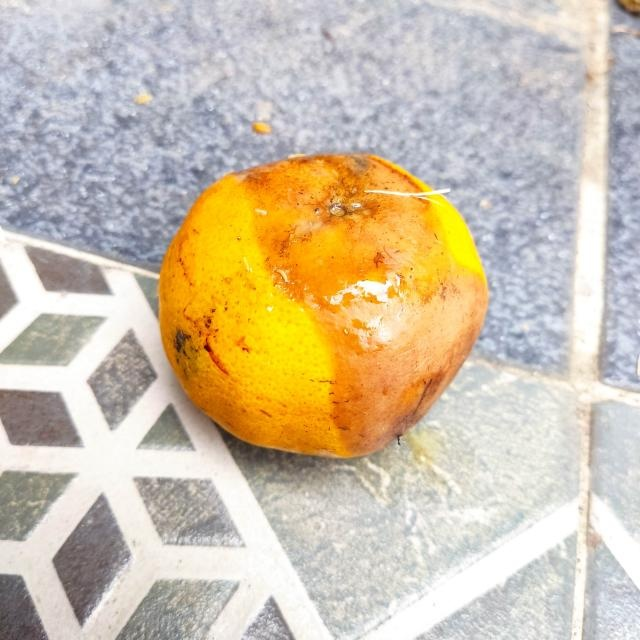agrume: (153, 151, 490, 461)
